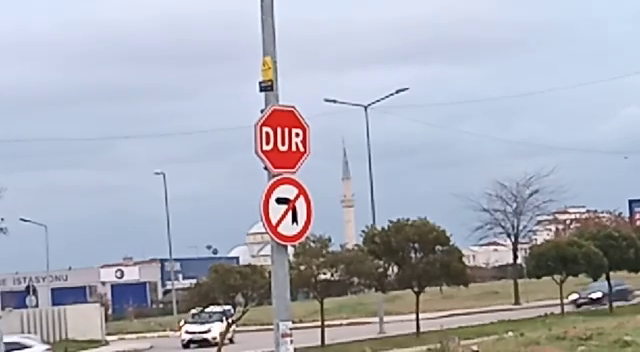no_left: (258, 173, 315, 249)
stop: (252, 102, 314, 177)
